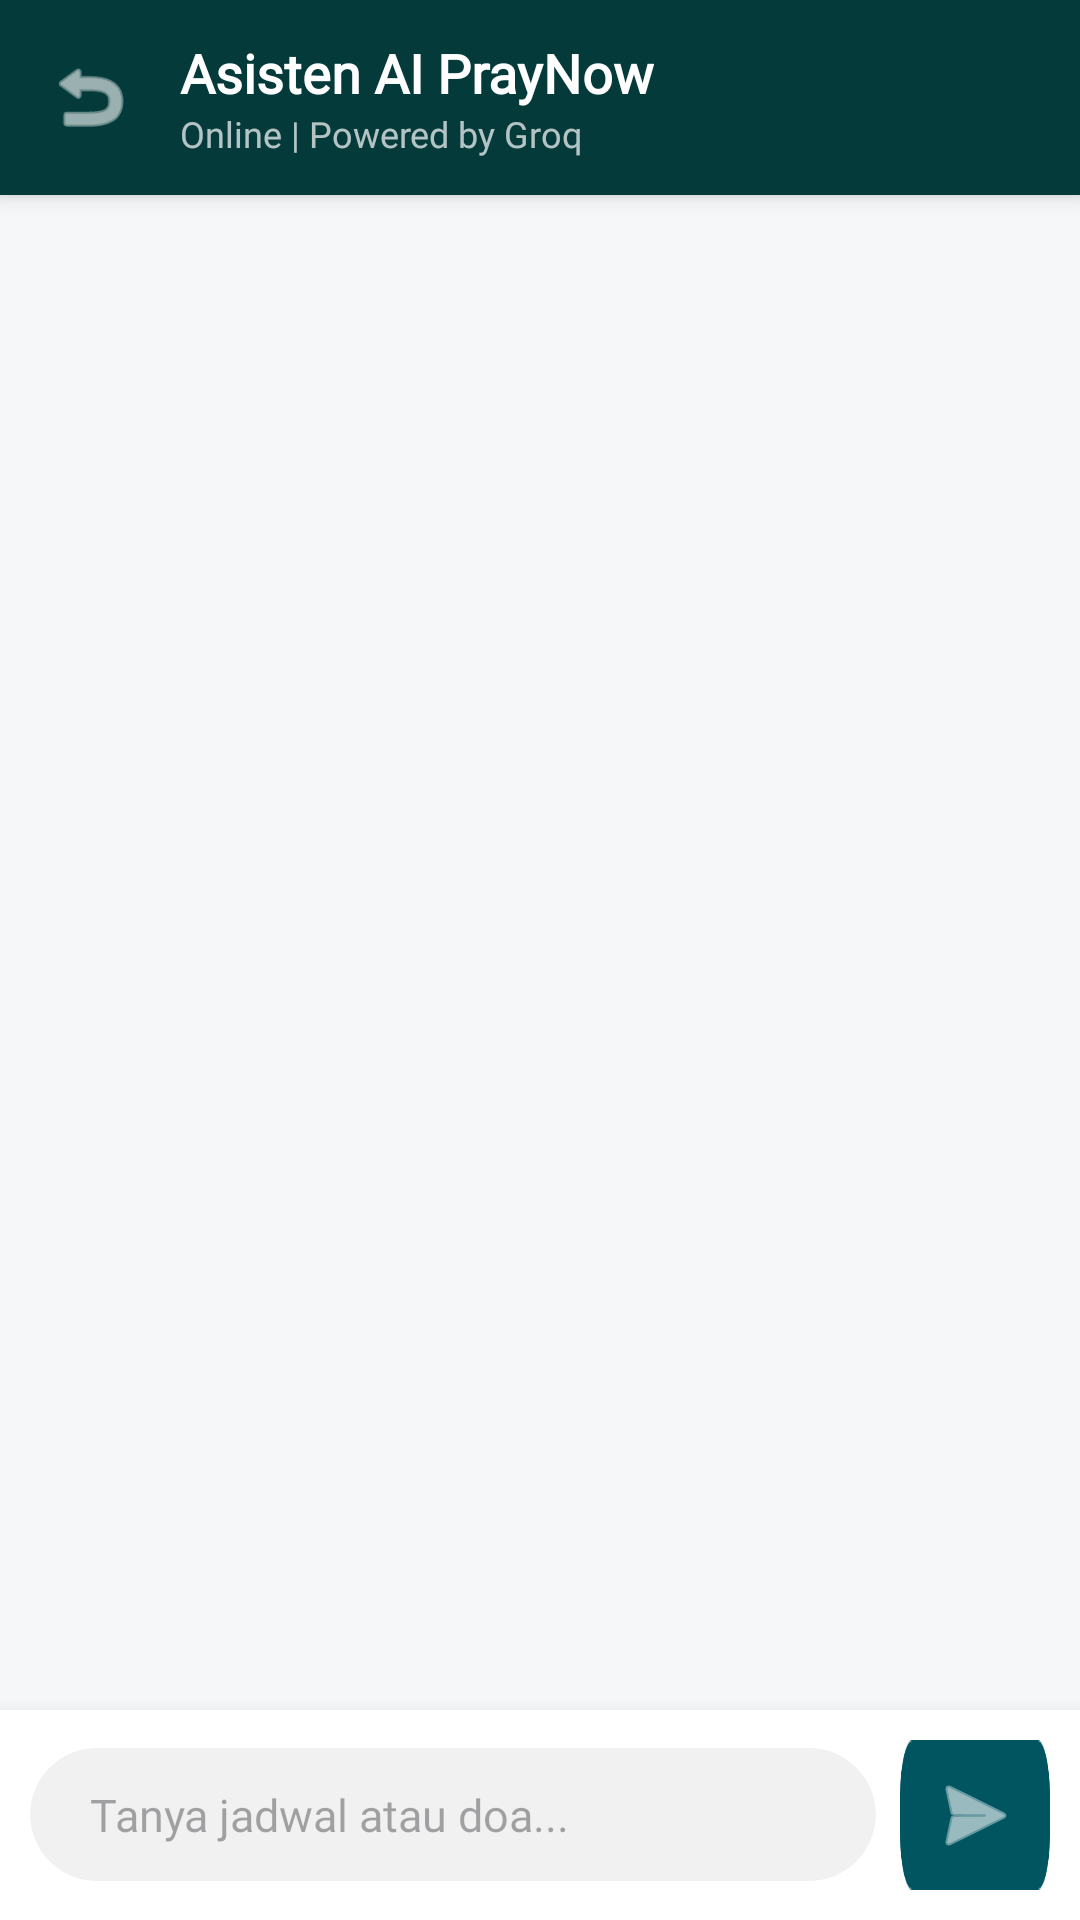

Icon bounding boxes for this 1080px x 1920px phone screenshot, format (x1, y1, x2, y2):
Kembali: (59, 68, 124, 127)
send: (900, 1740, 1050, 1890)
